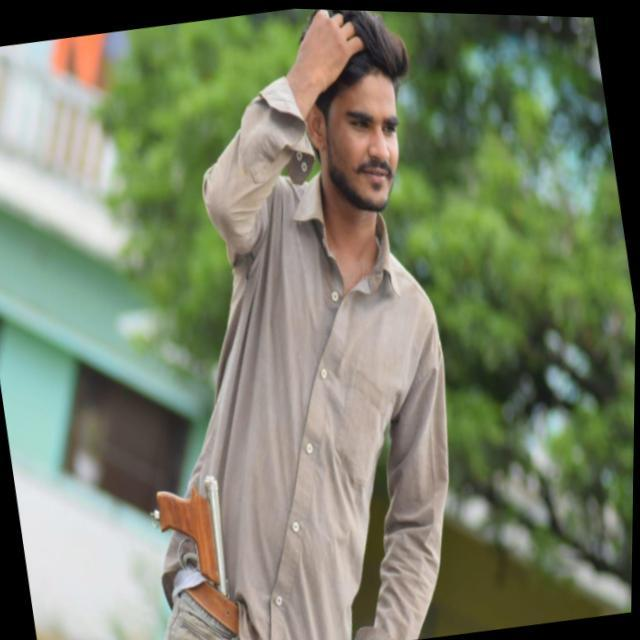weapon: (144, 467, 252, 640)
